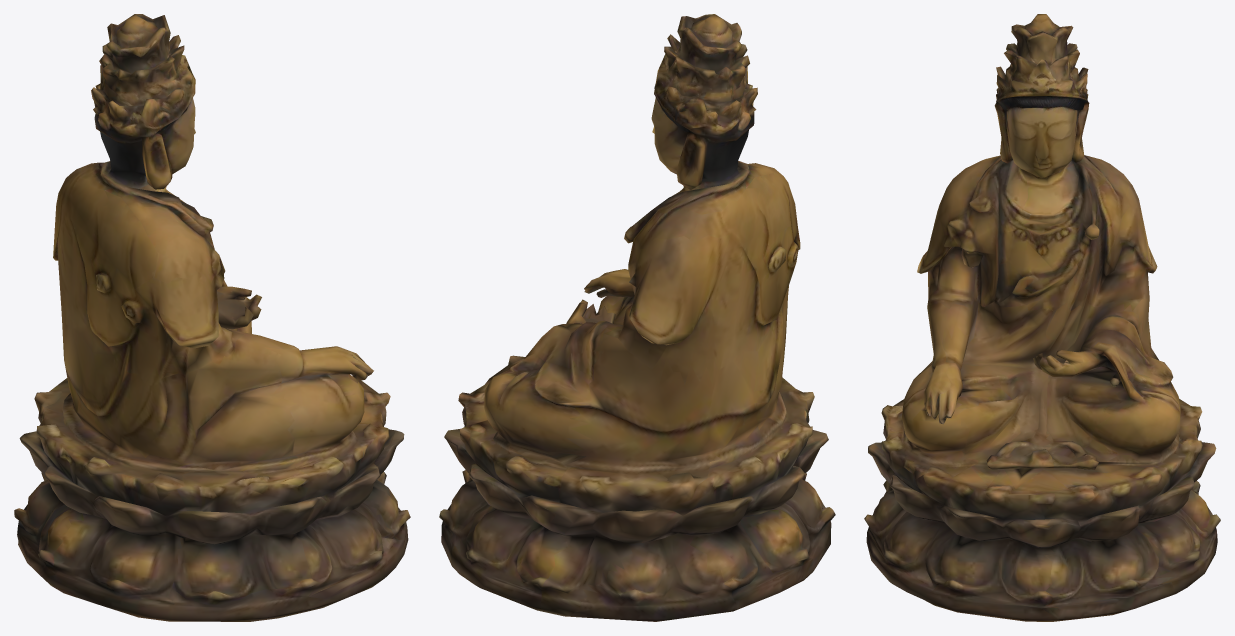
Rendered from foxiang.glb.
3 renders of one model, left to right at view 1: azimuth 30°, elevation 25°; view 2: azimuth 150°, elevation 25°; view 3: azimuth 270°, elevation 25°, orthographic. The views are drawn at different scales.
Visible parts, largest first — view 1: tripo_node_75e26765-25dc-4c44-bfdb-0deaa67125f0; view 2: tripo_node_75e26765-25dc-4c44-bfdb-0deaa67125f0; view 3: tripo_node_75e26765-25dc-4c44-bfdb-0deaa67125f0.
Boxes of the visible parts, left/top/right/bottom form: tripo_node_75e26765-25dc-4c44-bfdb-0deaa67125f0: left=14, top=14, right=410, bottom=621; tripo_node_75e26765-25dc-4c44-bfdb-0deaa67125f0: left=439, top=14, right=835, bottom=621; tripo_node_75e26765-25dc-4c44-bfdb-0deaa67125f0: left=864, top=14, right=1220, bottom=621.
Bounding box in the file's own units: 0.6618 × 1 × 0.6485.
1 material, 1 textured.
